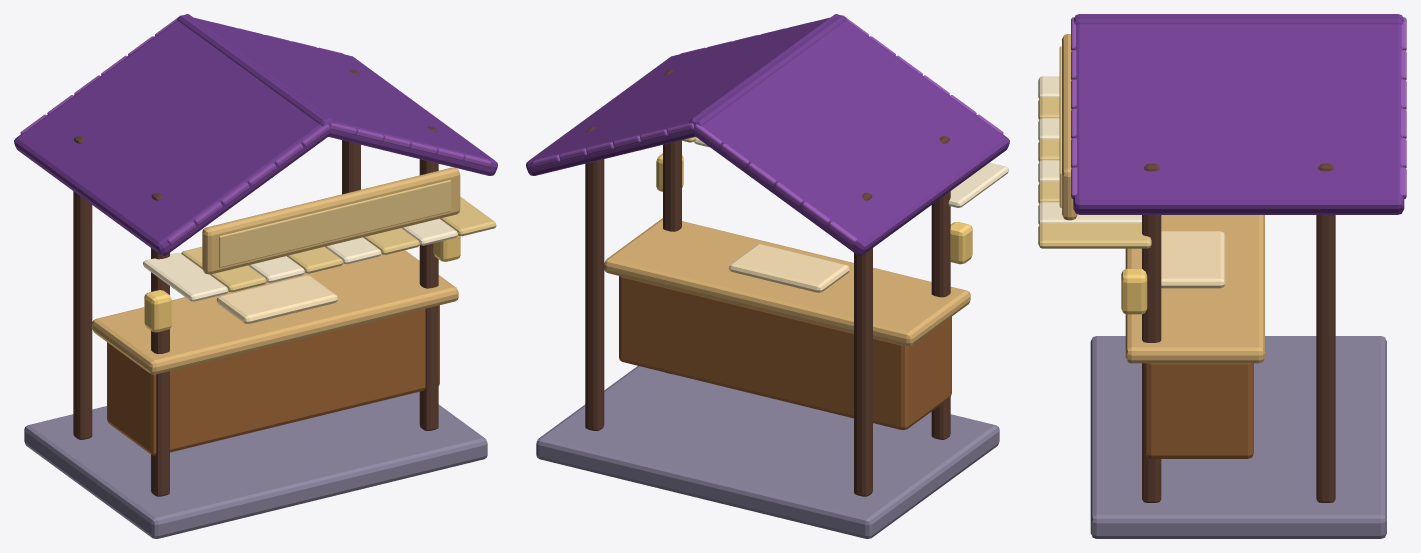
File: Pavilion_Help.glb
3 renders of one model, left to right at view 1: azimuth 30°, elevation 25°; view 2: azimuth 150°, elevation 25°; view 3: azimuth 270°, elevation 25°, orthographic. The views are drawn at different scales.
Parts seen in each view (by area): view 1: Roof.010, StoneBase.005, Counter.005, CounterTop.005, Roof.011, SignInset.005, Sign.005, Post.021, OpenBook, Post.022, Post.020, AwningStripe.040 (+10 smaller); view 2: StoneBase.005, Roof.010, Counter.005, CounterTop.005, Roof.011, Post.023, Post.021, OpenBook, Post.020, Post.022, AwningStripe.040, Lantern.010; view 3: Roof.011, StoneBase.005, CounterTop.005, Counter.005, Post.023, OpenBook, Post.022, Roof.010, AwningStripe.047, Sign.005, Lantern.011, AwningStripe.046 (+7 smaller).
Boxes of the visible parts, x1=… form: Roof.010: x1=14, y1=14, x2=334, y2=255; StoneBase.005: x1=24, y1=391, x2=487, y2=538; Counter.005: x1=107, y1=305, x2=439, y2=455; CounterTop.005: x1=92, y1=250, x2=458, y2=374; Roof.011: x1=177, y1=15, x2=497, y2=175; SignInset.005: x1=219, y1=180, x2=451, y2=267; Sign.005: x1=202, y1=167, x2=460, y2=274; Post.021: x1=73, y1=136, x2=92, y2=439; OpenBook: x1=216, y1=275, x2=337, y2=323; Post.022: x1=419, y1=126, x2=438, y2=430; Post.020: x1=151, y1=193, x2=169, y2=496; AwningStripe.040: x1=143, y1=253, x2=228, y2=301; StoneBase.005: x1=536, y1=366, x2=999, y2=538; Roof.010: x1=689, y1=14, x2=1009, y2=255; Counter.005: x1=619, y1=276, x2=951, y2=430; CounterTop.005: x1=604, y1=218, x2=970, y2=346; Roof.011: x1=526, y1=15, x2=846, y2=175; Post.023: x1=585, y1=126, x2=604, y2=430; Post.021: x1=854, y1=193, x2=872, y2=496; OpenBook: x1=728, y1=244, x2=849, y2=292; Post.020: x1=931, y1=136, x2=950, y2=439; Post.022: x1=663, y1=70, x2=681, y2=373; AwningStripe.040: x1=948, y1=162, x2=1008, y2=207; Lantern.010: x1=950, y1=222, x2=972, y2=264; Roof.011: x1=1073, y1=14, x2=1404, y2=214; StoneBase.005: x1=1090, y1=336, x2=1386, y2=538; CounterTop.005: x1=1125, y1=215, x2=1264, y2=363; Counter.005: x1=1146, y1=363, x2=1253, y2=458; Post.023: x1=1316, y1=163, x2=1335, y2=502; OpenBook: x1=1161, y1=231, x2=1225, y2=288; Post.022: x1=1142, y1=163, x2=1161, y2=502; Roof.010: x1=1074, y1=16, x2=1403, y2=24; AwningStripe.047: x1=1038, y1=223, x2=1151, y2=248; Sign.005: x1=1062, y1=34, x2=1077, y2=220; Lantern.011: x1=1121, y1=268, x2=1147, y2=314; AwningStripe.046: x1=1038, y1=202, x2=1141, y2=224.
Bounding box in the file's own units: 5.07 × 5.49 × 4.22.
